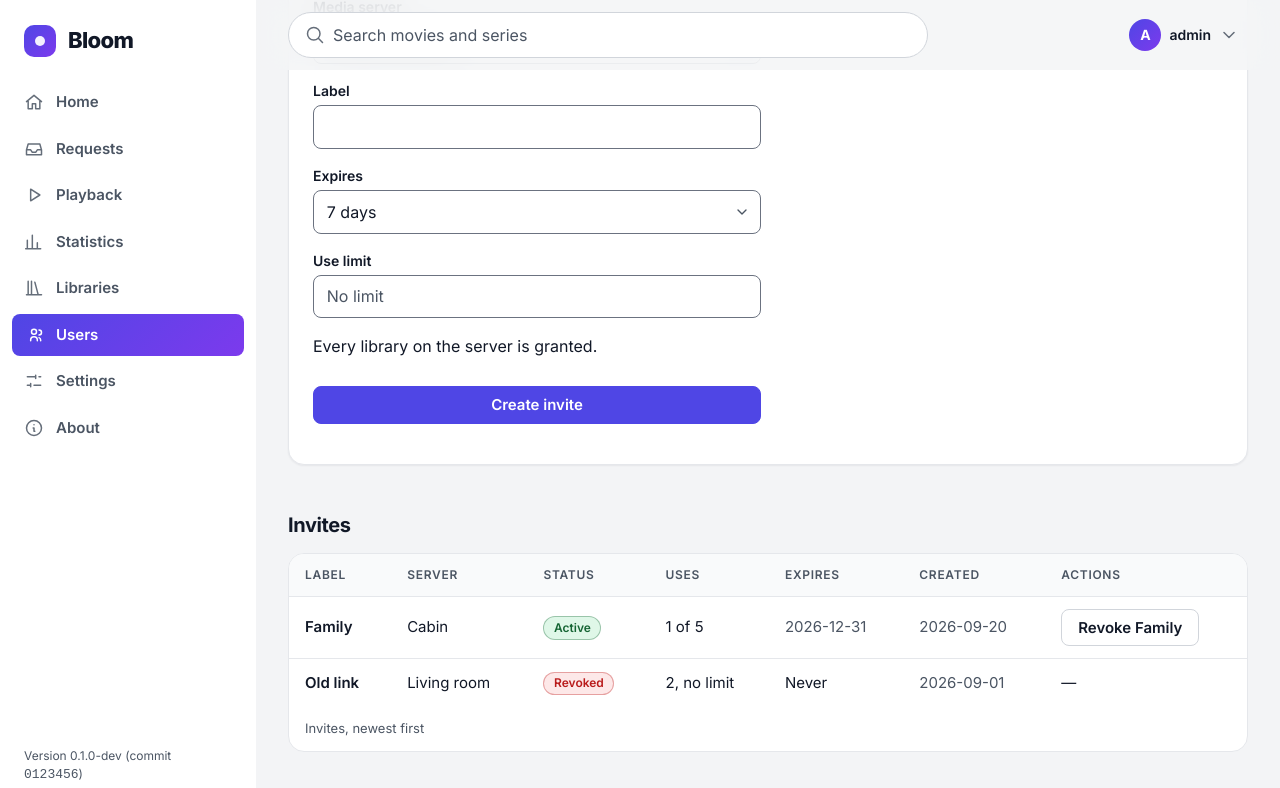
Test: revokes an invite after an in-row confirmation
(page scrolled)
Click the button "Revoke Family". click: point(1130, 628)
box: [1061, 609, 1199, 646]
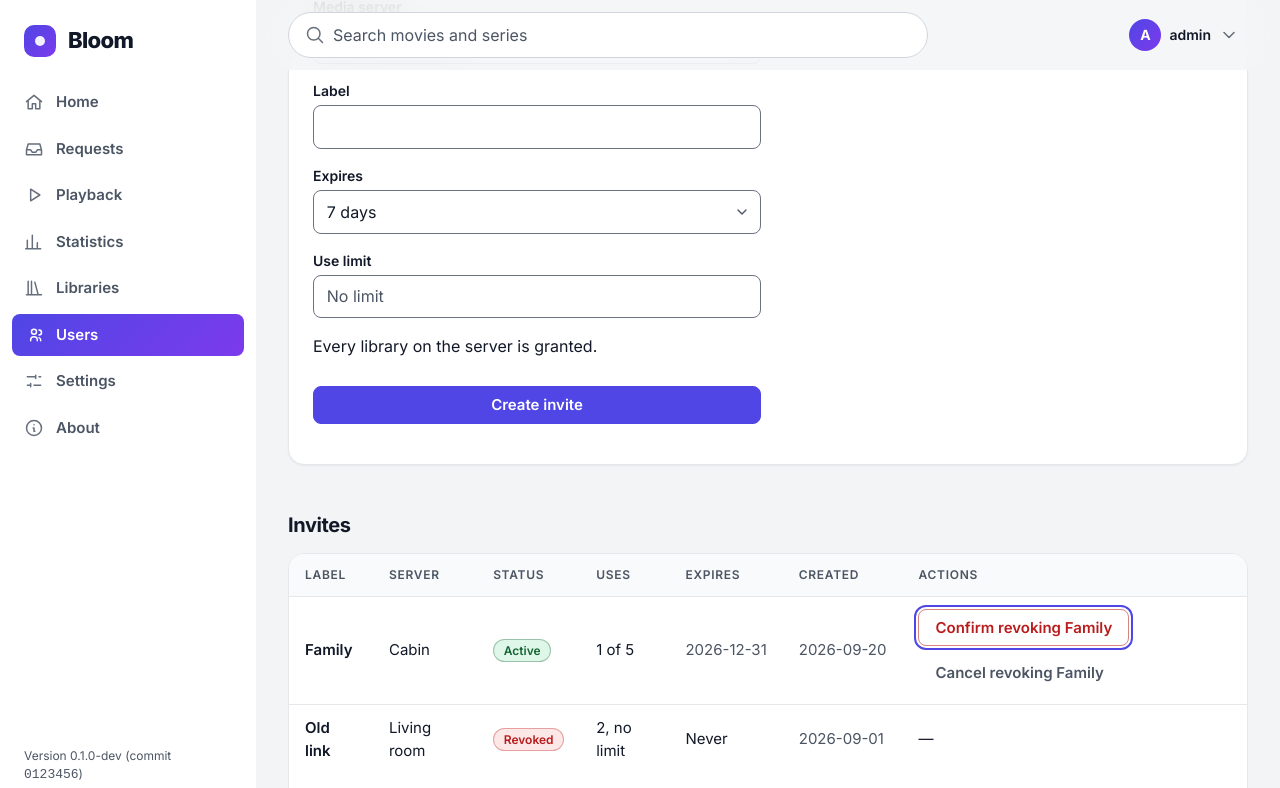
Click the button "Cancel revoking Family". click: point(1020, 673)
box: [918, 654, 1121, 692]
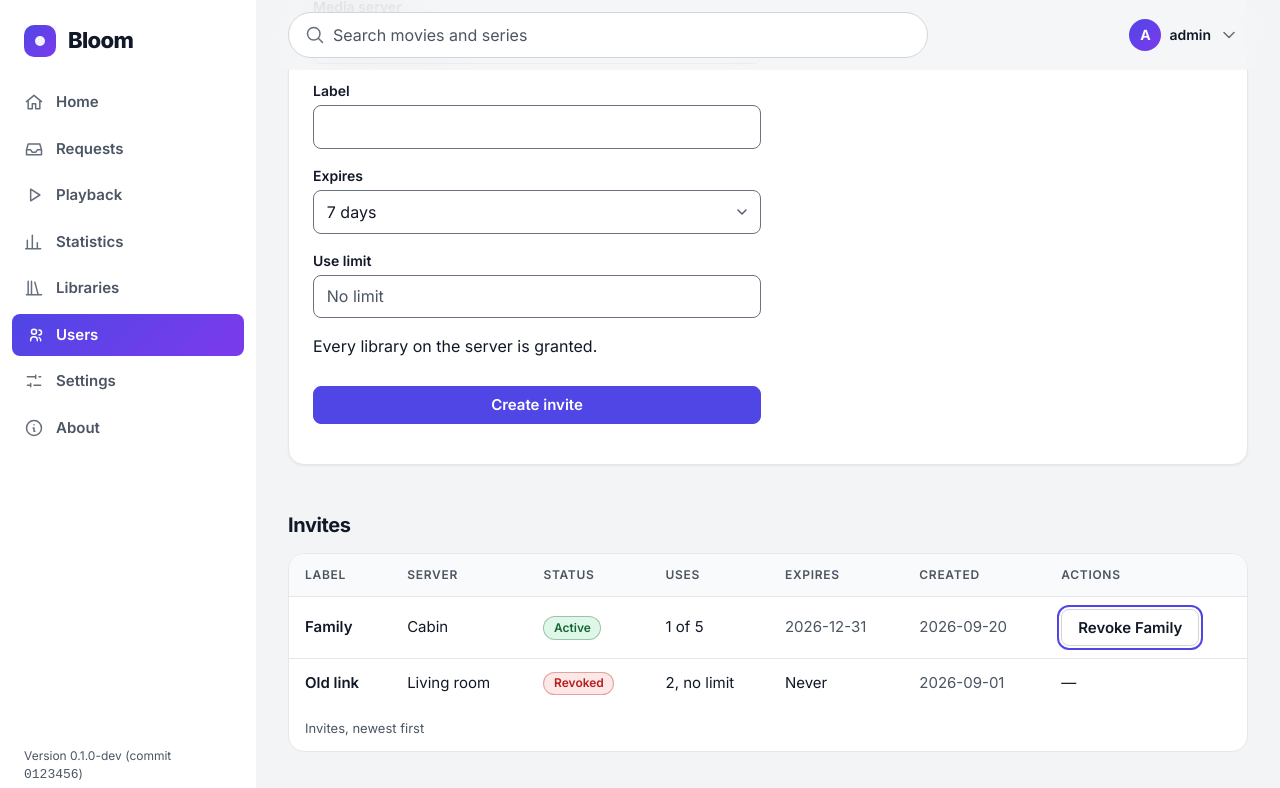
Click the button "Revoke Family". click: point(1130, 628)
box: [1061, 609, 1199, 646]
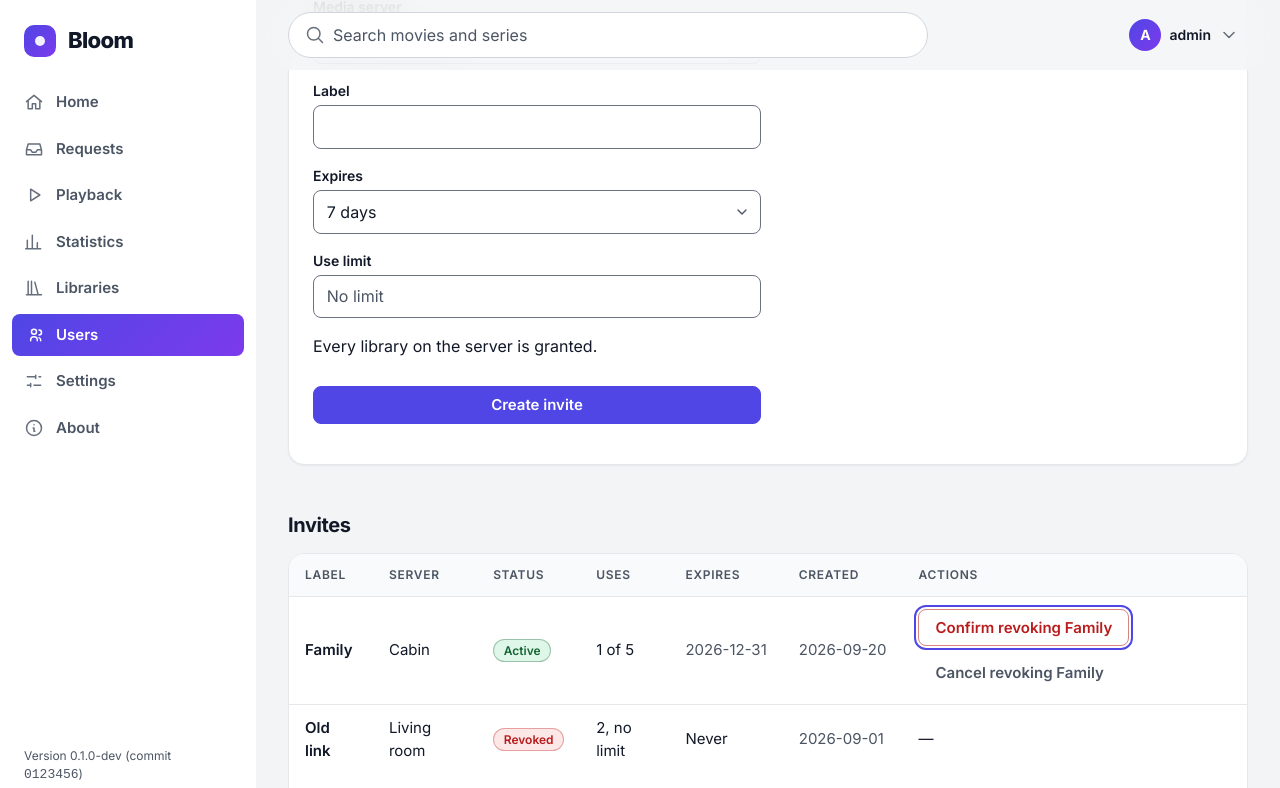
Click the button "Confirm revoking Family". click: point(1024, 628)
box: [918, 609, 1129, 646]
(page scrolled)
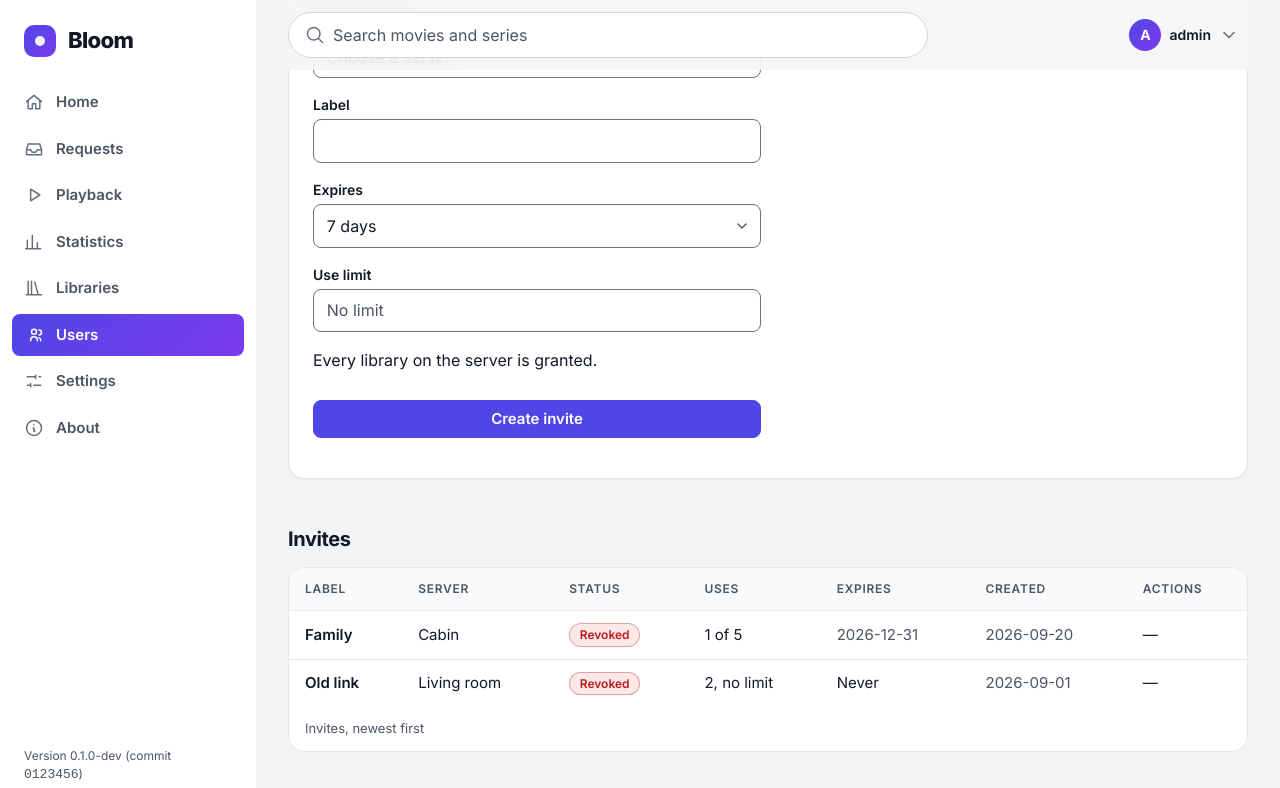
Expected: the row "Family Cabin Revoked 1 of 5 2026-12-31 2026-09-20 —" is shown, [289, 610, 1247, 659]
Expected: the button "Confirm revoking Family" is gone
